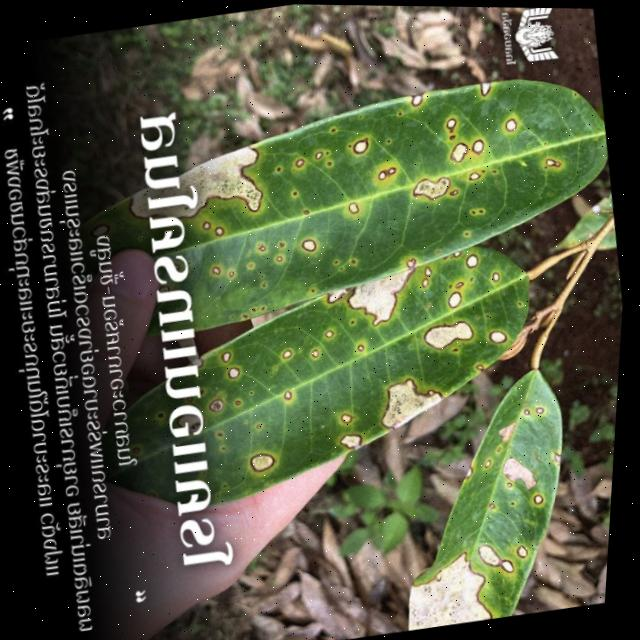Anthracnose: (189, 54, 604, 329), (208, 230, 574, 498), (367, 344, 619, 623)
